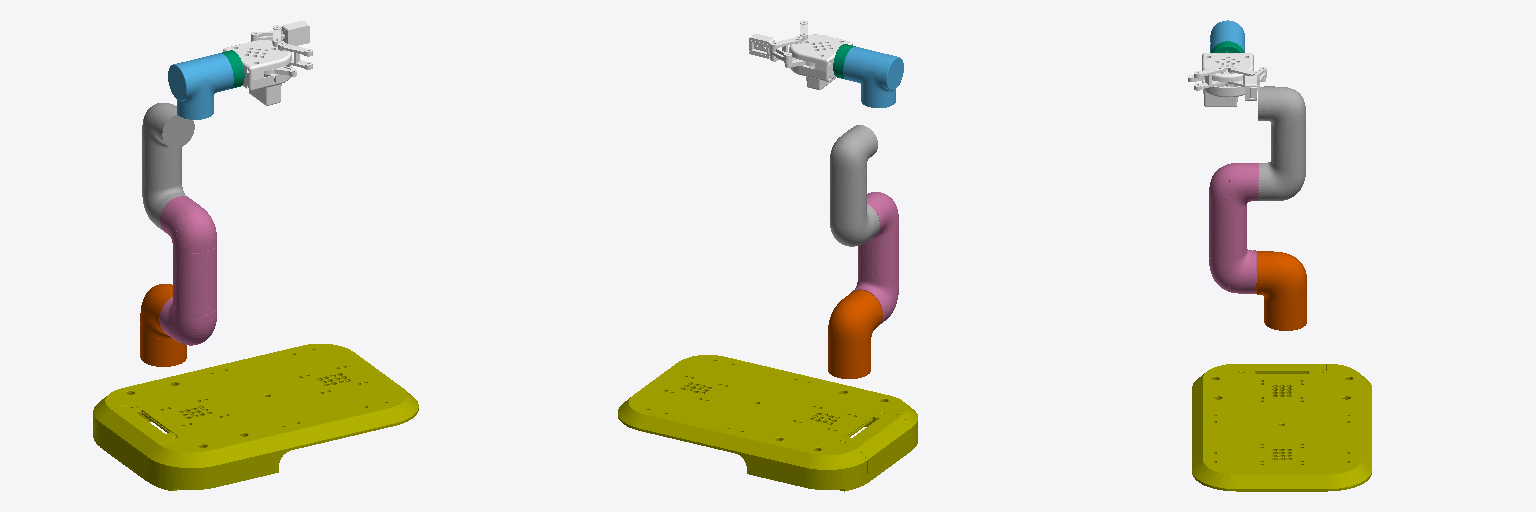
URDF robot description (mycomb1):
<?xml version='1.0' encoding='utf-8'?>
<robot name="mycomb1">
  <link name="base_link">
    <inertial>
      <mass value="0.001" />
      <origin rpy="0 0 0" xyz="0 0 0" />
      <inertia ixx="0.000001" ixy="0" ixz="0" iyy="0.000001" iyz="0" izz="0.000001" />
    </inertial>
  </link>
  <joint name="dummy_joint_copy" type="fixed">
    <origin xyz="0.0 0.0 0.0" rpy="0 0 0" />
    <parent link="base_link" />
    <child link="base_footprint_copy" />
    <axis xyz="0 0 1" />
  </joint>
  <link name="base_footprint_copy">
    <!-- placeholder inertial added by normalize_urdf.py - replace with CAD values -->
    <!-- myAGV placeholder: 1.8 kg like robots/myagv, box inertia for 0.31 x 0.23 x 0.15 m -->
    <inertial>
      <origin xyz="0 0 0" rpy="0 0 0" />
      <mass value="1.8" />
      <inertia ixx="0.0113" ixy="0" ixz="0" iyy="0.0178" iyz="0" izz="0.0224" />
    </inertial>
    <visual>
      <geometry>
        <mesh filename="package://cps_robot_description/robots/myagv/meshes/myagv_base.dae" scale="1 1 1" />
      </geometry>
      <origin xyz="0.0 0.0 0.0" rpy="0.0 0.0 0.0" />
      <material name="black">
        <color rgba="0.7 0.7 0.0 1.0" />
      </material>
    </visual>
    <collision>
      <origin xyz="0.0 0.0 0.0" rpy="0.0 0.0 0.0" />
      <geometry>
        <mesh filename="package://cps_robot_description/robots/myagv/meshes/myagv_base.dae" scale="1 1 1" />
      </geometry>
    </collision>
  </link>
  <joint name="base_joint_copy" type="fixed">
    <origin xyz="0.0 0.0 0.0" rpy="0 0 0" />
    <parent link="base_footprint_copy" />
    <child link="base_up_copy" />
    <axis xyz="0 0 1" />
  </joint>
  <link name="base_up_copy">
    <!-- placeholder inertial added by normalize_urdf.py - replace with CAD values -->
    <!-- myAGV placeholder: 1.8 kg like robots/myagv, box inertia for 0.31 x 0.23 x 0.15 m -->
    <inertial>
      <origin xyz="0 0 0" rpy="0 0 0" />
      <mass value="1.8" />
      <inertia ixx="0.0113" ixy="0" ixz="0" iyy="0.0178" iyz="0" izz="0.0224" />
    </inertial>
    <visual>
      <geometry>
        <mesh filename="package://cps_robot_description/robots/myagv/meshes/myagv_up.dae" scale="1 1 1" />
      </geometry>
      <origin xyz="0.0 0.0 0.0" rpy="0.0 0.0 0.0" />
      <material name="black">
        <color rgba="0.7 0.7 0.0 1.0" />
      </material>
    </visual>
    <collision>
      <origin xyz="0.0 0.0 0.0" rpy="0.0 0.0 0.0" />
      <geometry>
        <mesh filename="package://cps_robot_description/robots/myagv/meshes/myagv_up.dae" scale="1 1 1" />
      </geometry>
    </collision>
  </link>
  <joint name="base_to_g_base_copy" type="fixed">
    <axis xyz="0 0 0" />
    <limit effort="1000.0" lower="-3.14" upper="3.14159" velocity="0" />
    <parent link="base_up_copy" />
    <child link="g_base_copy" />
    <origin xyz="-0.1 0 0.13" rpy="0 0 0" />
  </joint>
  <link name="g_base_copy">
    <!-- placeholder inertial added by normalize_urdf.py - replace with CAD values -->
    <inertial>
      <origin xyz="0 0 0" rpy="0 0 0" />
      <mass value="0.1" />
      <inertia ixx="3.600e-05" ixy="0" ixz="0" iyy="3.600e-05" iyz="0" izz="3.600e-05" />
    </inertial>
    <visual>
      <geometry>
        <mesh filename="package://cps_robot_description/robots/mycobot_280_pi/meshes/G_base.dae" />
      </geometry>
      <origin xyz="0.0 0 -0.03" rpy="0 0 1.5708" />
    </visual>
    <collision>
      <geometry>
        <mesh filename="package://cps_robot_description/robots/mycobot_280_pi/meshes/G_base.dae" />
      </geometry>
      <origin xyz="0.0 0 -0.03" rpy="0 0 1.5708" />
    </collision>
  </link>
  <link name="joint1_copy">
    <!-- placeholder inertial added by normalize_urdf.py - replace with CAD values -->
    <inertial>
      <origin xyz="0 0 0" rpy="0 0 0" />
      <mass value="0.1" />
      <inertia ixx="3.600e-05" ixy="0" ixz="0" iyy="3.600e-05" iyz="0" izz="3.600e-05" />
    </inertial>
    <visual>
      <geometry>
        <!--- 0.0 0 -0.04  1.5708 3.14159-->
        <mesh filename="package://cps_robot_description/robots/mycobot_280_pi/meshes/joint1_pi.dae" />
      </geometry>
      <origin xyz="0.0 0 0 " rpy=" 0 0 -1.5708" />
    </visual>
    <collision>
      <geometry>
        <!--- 0.0 0 -0.04  1.5708 3.14159-->
        <mesh filename="package://cps_robot_description/robots/mycobot_280_pi/meshes/joint1_pi.dae" />
      </geometry>
      <origin xyz="0.0 0 0 " rpy=" 0 0 -1.5708" />
    </collision>
  </link>
  <link name="joint2_copy">
    <!-- placeholder inertial added by normalize_urdf.py - replace with CAD values -->
    <inertial>
      <origin xyz="0 0 0" rpy="0 0 0" />
      <mass value="0.1" />
      <inertia ixx="3.600e-05" ixy="0" ixz="0" iyy="3.600e-05" iyz="0" izz="3.600e-05" />
    </inertial>
    <visual>
      <geometry>
        <mesh filename="package://cps_robot_description/robots/mycobot_280_pi/meshes/joint2.dae" />
      </geometry>
      <origin xyz="0.0 0 -0.06096 " rpy=" 0 0 -1.5708" />
    </visual>
    <collision>
      <geometry>
        <mesh filename="package://cps_robot_description/robots/mycobot_280_pi/meshes/joint2.dae" />
      </geometry>
      <origin xyz="0.0 0 -0.06096 " rpy=" 0 0 -1.5708" />
    </collision>
  </link>
  <link name="joint3_copy">
    <!-- placeholder inertial added by normalize_urdf.py - replace with CAD values -->
    <inertial>
      <origin xyz="0 0 0" rpy="0 0 0" />
      <mass value="0.1" />
      <inertia ixx="3.600e-05" ixy="0" ixz="0" iyy="3.600e-05" iyz="0" izz="3.600e-05" />
    </inertial>
    <visual>
      <geometry>
        <mesh filename="package://cps_robot_description/robots/mycobot_280_pi/meshes/joint3.dae" />
      </geometry>
      <origin xyz="0.0 0 0.03256 " rpy=" 0 -1.5708 0" />
    </visual>
    <collision>
      <geometry>
        <mesh filename="package://cps_robot_description/robots/mycobot_280_pi/meshes/joint3.dae" />
      </geometry>
      <origin xyz="0.0 0 0.03256 " rpy=" 0 -1.5708 0" />
    </collision>
  </link>
  <link name="joint4_copy">
    <!-- placeholder inertial added by normalize_urdf.py - replace with CAD values -->
    <inertial>
      <origin xyz="0 0 0" rpy="0 0 0" />
      <mass value="0.1" />
      <inertia ixx="3.600e-05" ixy="0" ixz="0" iyy="3.600e-05" iyz="0" izz="3.600e-05" />
    </inertial>
    <visual>
      <geometry>
        <!--- 0.0 0 -0.04 -->
        <mesh filename="package://cps_robot_description/robots/mycobot_280_pi/meshes/joint4.dae" />
      </geometry>
      <origin xyz="0.0 0 0.03056 " rpy=" 0 -1.5708 0" />
    </visual>
    <collision>
      <geometry>
        <!--- 0.0 0 -0.04 -->
        <mesh filename="package://cps_robot_description/robots/mycobot_280_pi/meshes/joint4.dae" />
      </geometry>
      <origin xyz="0.0 0 0.03056 " rpy=" 0 -1.5708 0" />
    </collision>
  </link>
  <link name="joint5_copy">
    <!-- placeholder inertial added by normalize_urdf.py - replace with CAD values -->
    <inertial>
      <origin xyz="0 0 0" rpy="0 0 0" />
      <mass value="0.1" />
      <inertia ixx="3.600e-05" ixy="0" ixz="0" iyy="3.600e-05" iyz="0" izz="3.600e-05" />
    </inertial>
    <visual>
      <geometry>
        <!--- 0.0 0 -0.04 -->
        <mesh filename="package://cps_robot_description/robots/mycobot_280_pi/meshes/joint5.dae" />
      </geometry>
      <origin xyz="0.0 0 -0.03356 " rpy=" -1.5708 0 0" />
    </visual>
    <collision>
      <geometry>
        <!--- 0.0 0 -0.04 -->
        <mesh filename="package://cps_robot_description/robots/mycobot_280_pi/meshes/joint5.dae" />
      </geometry>
      <origin xyz="0.0 0 -0.03356 " rpy=" -1.5708 0 0" />
    </collision>
  </link>
  <link name="joint6_copy">
    <!-- placeholder inertial added by normalize_urdf.py - replace with CAD values -->
    <inertial>
      <origin xyz="0 0 0" rpy="0 0 0" />
      <mass value="0.1" />
      <inertia ixx="3.600e-05" ixy="0" ixz="0" iyy="3.600e-05" iyz="0" izz="3.600e-05" />
    </inertial>
    <visual>
      <geometry>
        <!--- 0.0 0 -0.04 -->
        <mesh filename="package://cps_robot_description/robots/mycobot_280_pi/meshes/joint6.dae" />
      </geometry>
      <origin xyz="0 0.00 -0.038 " rpy=" 0 0 0" />
    </visual>
    <collision>
      <geometry>
        <!--- 0.0 0 -0.04 -->
        <mesh filename="package://cps_robot_description/robots/mycobot_280_pi/meshes/joint6.dae" />
      </geometry>
      <origin xyz="0 0.00 -0.038 " rpy=" 0 0 0" />
    </collision>
  </link>
  <link name="joint6_flange_copy">
    <!-- placeholder inertial added by normalize_urdf.py - replace with CAD values -->
    <inertial>
      <origin xyz="0 0 0" rpy="0 0 0" />
      <mass value="0.1" />
      <inertia ixx="3.600e-05" ixy="0" ixz="0" iyy="3.600e-05" iyz="0" izz="3.600e-05" />
    </inertial>
    <visual>
      <geometry>
        <!--- 0.0 0 -0.04 -->
        <mesh filename="package://cps_robot_description/robots/mycobot_280_pi/meshes/joint7.dae" />
      </geometry>
      <origin xyz="0.0 0 -0.012 " rpy=" 0 0 0" />
    </visual>
    <collision>
      <geometry>
        <!--- 0.0 0 -0.04 -->
        <mesh filename="package://cps_robot_description/robots/mycobot_280_pi/meshes/joint7.dae" />
      </geometry>
      <origin xyz="0.0 0 -0.012 " rpy=" 0 0 0" />
    </collision>
  </link>
  <link name="gripper_base_copy">
    <!-- placeholder inertial added by normalize_urdf.py - replace with CAD values -->
    <inertial>
      <origin xyz="0 0 0" rpy="0 0 0" />
      <mass value="0.1" />
      <inertia ixx="3.600e-05" ixy="0" ixz="0" iyy="3.600e-05" iyz="0" izz="3.600e-05" />
    </inertial>
    <visual>
      <geometry>
        <mesh filename="package://cps_robot_description/robots/mycobot_280_pi/meshes/gripper_base.dae" />
      </geometry>
      <origin xyz="0.0 0.0077 -0.012" rpy=" 0 0 0" />
    </visual>
    <collision>
      <geometry>
        <mesh filename="package://cps_robot_description/robots/mycobot_280_pi/meshes/gripper_base.dae" />
      </geometry>
      <origin xyz="0.0 0.0077 -0.012 " rpy=" 0 0 0" />
    </collision>
  </link>
  <link name="gripper_left1_copy">
    <!-- placeholder inertial added by normalize_urdf.py - replace with CAD values -->
    <inertial>
      <origin xyz="0 0 0" rpy="0 0 0" />
      <mass value="0.1" />
      <inertia ixx="3.600e-05" ixy="0" ixz="0" iyy="3.600e-05" iyz="0" izz="3.600e-05" />
    </inertial>
    <visual>
      <geometry>
        <!--- 0.0 0 -0.04 -->
        <mesh filename="package://cps_robot_description/robots/mycobot_280_pi/meshes/gripper_left1.dae" />
      </geometry>
      <origin xyz="0.039 -0.0133 -0.012 " rpy=" 0 0 0" />
      <!-- <origin xyz = "0.0 0 -0.012 " rpy = " 0 0 0"/> -->
    </visual>
    <!-- collision origin aligned with visual (was copy-pasted from the mirrored link) -->
    <collision>
      <geometry>
        <mesh filename="package://cps_robot_description/robots/mycobot_280_pi/meshes/gripper_left1.dae" />
      </geometry>
      <origin xyz="0.039 -0.0133 -0.012 " rpy=" 0 0 0" />
    </collision>
  </link>
  <link name="gripper_left2_copy">
    <!-- placeholder inertial added by normalize_urdf.py - replace with CAD values -->
    <inertial>
      <origin xyz="0 0 0" rpy="0 0 0" />
      <mass value="0.1" />
      <inertia ixx="3.600e-05" ixy="0" ixz="0" iyy="3.600e-05" iyz="0" izz="3.600e-05" />
    </inertial>
    <visual>
      <geometry>
        <mesh filename="package://cps_robot_description/robots/mycobot_280_pi/meshes/gripper_left2.dae" />
      </geometry>
      <origin xyz="0.005 -0.0195 -0.012 " rpy=" 0 0 0" />
    </visual>
    <!-- collision origin aligned with visual (was copy-pasted from the mirrored link) -->
    <collision>
      <geometry>
        <mesh filename="package://cps_robot_description/robots/mycobot_280_pi/meshes/gripper_left2.dae" />
      </geometry>
      <origin xyz="0.005 -0.0195 -0.012 " rpy=" 0 0 0" />
    </collision>
  </link>
  <link name="gripper_left3_copy">
    <!-- placeholder inertial added by normalize_urdf.py - replace with CAD values -->
    <inertial>
      <origin xyz="0 0 0" rpy="0 0 0" />
      <mass value="0.1" />
      <inertia ixx="3.600e-05" ixy="0" ixz="0" iyy="3.600e-05" iyz="0" izz="3.600e-05" />
    </inertial>
    <visual>
      <geometry>
        <mesh filename="package://cps_robot_description/robots/mycobot_280_pi/meshes/gripper_left3.dae" />
      </geometry>
      <origin xyz="0.012 0.0025 -0.012 " rpy=" 0 0 0" />
      <!-- <origin xyz = "0.0 0 0 " rpy = " 0 0 0"/> -->
    </visual>
    <collision>
      <geometry>
        <mesh filename="package://cps_robot_description/robots/mycobot_280_pi/meshes/gripper_left3.dae" />
      </geometry>
      <origin xyz="0.012 0.0025 -0.012" rpy=" 0 0 0" />
    </collision>
  </link>
  <link name="gripper_right1_copy">
    <!-- placeholder inertial added by normalize_urdf.py - replace with CAD values -->
    <inertial>
      <origin xyz="0 0 0" rpy="0 0 0" />
      <mass value="0.1" />
      <inertia ixx="3.600e-05" ixy="0" ixz="0" iyy="3.600e-05" iyz="0" izz="3.600e-05" />
    </inertial>
    <visual>
      <geometry>
        <mesh filename="package://cps_robot_description/robots/mycobot_280_pi/meshes/gripper_right1.dae" />
      </geometry>
      <origin xyz="-0.039 -0.0133 -0.012 " rpy=" 0 0 0" />
    </visual>
    <collision>
      <geometry>
        <mesh filename="package://cps_robot_description/robots/mycobot_280_pi/meshes/gripper_right1.dae" />
      </geometry>
      <origin xyz="-0.039 -0.0133 -0.012 " rpy=" 0 0 0" />
    </collision>
  </link>
  <link name="gripper_right2_copy">
    <!-- placeholder inertial added by normalize_urdf.py - replace with CAD values -->
    <inertial>
      <origin xyz="0 0 0" rpy="0 0 0" />
      <mass value="0.1" />
      <inertia ixx="3.600e-05" ixy="0" ixz="0" iyy="3.600e-05" iyz="0" izz="3.600e-05" />
    </inertial>
    <visual>
      <geometry>
        <mesh filename="package://cps_robot_description/robots/mycobot_280_pi/meshes/gripper_right2.dae" />
      </geometry>
      <origin xyz="-0.005 -0.0195 -0.012 " rpy=" 0 0 0" />
    </visual>
    <collision>
      <geometry>
        <mesh filename="package://cps_robot_description/robots/mycobot_280_pi/meshes/gripper_right2.dae" />
      </geometry>
      <origin xyz="-0.005 -0.0195 -0.012 " rpy=" 0 0 0" />
    </collision>
  </link>
  <link name="gripper_right3_copy">
    <!-- placeholder inertial added by normalize_urdf.py - replace with CAD values -->
    <inertial>
      <origin xyz="0 0 0" rpy="0 0 0" />
      <mass value="0.1" />
      <inertia ixx="3.600e-05" ixy="0" ixz="0" iyy="3.600e-05" iyz="0" izz="3.600e-05" />
    </inertial>
    <visual>
      <geometry>
        <mesh filename="package://cps_robot_description/robots/mycobot_280_pi/meshes/gripper_right3.dae" />
      </geometry>
      <origin xyz="-0.012 0.0025 -0.012 " rpy=" 0 0 0" />
    </visual>
    <collision>
      <geometry>
        <mesh filename="package://cps_robot_description/robots/mycobot_280_pi/meshes/gripper_right3.dae" />
      </geometry>
      <origin xyz="-0.012 0.0025 -0.012" rpy=" 0 0 0" />
    </collision>
  </link>
  <joint name="g_base_to_joint1_copy" type="fixed">
    <axis xyz="0 0 0" />
    <limit effort="1000.0" lower="-6.2831853" upper="6.2831853" velocity="0" />
    <parent link="g_base_copy" />
    <child link="joint1_copy" />
    <origin xyz="0 0 0" rpy="0 0 0" />
  </joint>
  <joint name="joint2_to_joint1_copy" type="revolute">
    <axis xyz="0 0 1" />
    <limit effort="1000.0" lower="-6.2831853" upper="6.2831853" velocity="2" />
    <parent link="joint1_copy" />
    <child link="joint2_copy" />
    <origin xyz="0 0 0.13156" rpy="0 0 0" />
  </joint>
  <joint name="joint3_to_joint2_copy" type="revolute">
    <axis xyz="0 0 1" />
    <limit effort="1000.0" lower="-6.2831853" upper="6.2831853" velocity="2" />
    <parent link="joint2_copy" />
    <child link="joint3_copy" />
    <origin xyz="0 0  0" rpy="0 1.5708 -1.5708" />
  </joint>
  <joint name="joint4_to_joint3_copy" type="revolute">
    <axis xyz=" 0 0 1" />
    <limit effort="1000.0" lower="-6.2831853" upper="6.2831853" velocity="2" />
    <parent link="joint3_copy" />
    <child link="joint4_copy" />
    <origin xyz="  -0.1104 0 0   " rpy="0 0 0" />
  </joint>
  <joint name="joint5_to_joint4_copy" type="revolute">
    <axis xyz=" 0 0 1" />
    <limit effort="1000.0" lower="-6.2831853" upper="6.2831853" velocity="2" />
    <parent link="joint4_copy" />
    <child link="joint5_copy" />
    <origin xyz="-0.096 0 0.06462" rpy="0 0 -1.5708" />
  </joint>
  <joint name="joint6_to_joint5_copy" type="revolute">
    <axis xyz="0 0 1" />
    <limit effort="1000.0" lower="-6.2831853" upper="6.2831853" velocity="2" />
    <parent link="joint5_copy" />
    <child link="joint6_copy" />
    <origin xyz="0 -0.07318 0" rpy="1.5708 -1.5708 0" />
  </joint>
  <joint name="joint6output_to_joint6_copy" type="revolute">
    <axis xyz="0 0 1" />
    <limit effort="1000.0" lower="-6.2831853" upper="6.2831853" velocity="2" />
    <parent link="joint6_copy" />
    <child link="joint6_flange_copy" />
    <origin xyz="0 0.0456 0" rpy="-1.5708 0 0" />
  </joint>
  <joint name="joint6output_to_gripper_base_copy" type="fixed">
    <!-- <axis xyz="0 0 1"/>
    <limit effort = "1000.0" lower = "-3.14" upper = "3.14159" velocity = "0"/> -->
    <parent link="joint6_flange_copy" />
    <child link="gripper_base_copy" />
    <origin xyz="0 0 0.0268" rpy="1.5708 0 3.14159" />
  </joint>
  <joint name="gripper_controller" type="revolute">
    <axis xyz="0 0 1" />
    <limit effort="1000.0" lower="-0.7" upper="0.15" velocity="2" />
    <parent link="gripper_base_copy" />
    <child link="gripper_left3_copy" />
    <origin xyz="-0.012 0.005 0" rpy="0 0 0" />
  </joint>
  <joint name="gripper_base_to_gripper_left2_copy" type="revolute">
    <axis xyz="0 0 1" />
    <limit effort="1000.0" lower="-0.8" upper="0.5" velocity="2" />
    <parent link="gripper_base_copy" />
    <child link="gripper_left2_copy" />
    <origin xyz="-0.005 0.027 0" rpy="0 0 0" />
    <mimic joint="gripper_controller" multiplier="1.0" offset="0" />
  </joint>
  <joint name="gripper_left3_to_gripper_left1_copy" type="revolute">
    <axis xyz="0 0 1" />
    <limit effort="1000.0" lower="-0.5" upper="0.5" velocity="2" />
    <parent link="gripper_left3_copy" />
    <child link="gripper_left1_copy" />
    <origin xyz="-0.027 0.016 0" rpy="0 0 0" />
    <mimic joint="gripper_controller" multiplier="-1.0" offset="0" />
  </joint>
  <joint name="gripper_base_to_gripper_right3_copy" type="revolute">
    <axis xyz="0 0 1" />
    <limit effort="1000.0" lower="-0.15" upper="0.7" velocity="2" />
    <parent link="gripper_base_copy" />
    <child link="gripper_right3_copy" />
    <origin xyz="0.012 0.005 0" rpy="0 0 0" />
    <mimic joint="gripper_controller" multiplier="-1.0" offset="0" />
  </joint>
  <joint name="gripper_base_to_gripper_right2_copy" type="revolute">
    <axis xyz="0 0 1" />
    <limit effort="1000.0" lower="-0.5" upper="0.8" velocity="2" />
    <parent link="gripper_base_copy" />
    <child link="gripper_right2_copy" />
    <origin xyz="0.005 0.027 0" rpy="0 0 0" />
    <mimic joint="gripper_controller" multiplier="-1.0" offset="0" />
  </joint>
  <joint name="gripper_right3_to_gripper_right1_copy" type="revolute">
    <axis xyz="0 0 1" />
    <limit effort="1000.0" lower="-0.5" upper="0.5" velocity="2" />
    <parent link="gripper_right3_copy" />
    <child link="gripper_right1_copy" />
    <origin xyz="0.027 0.016 0" rpy="0 0 0" />
    <mimic joint="gripper_controller" multiplier="1.0" offset="0" />
  </joint>
</robot>

--- Facts derived from the render (not from the file) ---
Views: 3 orthographic renders of the robot side by side, from view 1: azimuth 30°, elevation 25°; view 2: azimuth 150°, elevation 25°; view 3: azimuth 270°, elevation 25°.
Robot: mycomb1 — 18 links, 17 joints (12 revolute, 5 fixed); root link base_link; default pose: every joint at zero.
Visible links, largest first — view 1: base_up_copy, joint3_copy, joint4_copy, joint6_copy, gripper_base_copy, joint2_copy, gripper_right1_copy; view 2: base_up_copy, joint4_copy, joint2_copy, joint3_copy, joint6_copy, gripper_base_copy, gripper_right1_copy; view 3: base_up_copy, joint3_copy, joint4_copy, joint2_copy, gripper_base_copy, joint6_copy.
Boxes of the visible links, left/top/right/bottom form: base_up_copy: left=93, top=344, right=418, bottom=490; joint3_copy: left=159, top=196, right=216, bottom=345; joint4_copy: left=142, top=103, right=194, bottom=229; joint6_copy: left=168, top=53, right=233, bottom=119; gripper_base_copy: left=223, top=40, right=291, bottom=105; joint2_copy: left=140, top=284, right=186, bottom=366; gripper_right1_copy: left=251, top=21, right=309, bottom=45; base_up_copy: left=618, top=355, right=917, bottom=491; joint4_copy: left=830, top=125, right=879, bottom=246; joint2_copy: left=828, top=290, right=882, bottom=378; joint3_copy: left=851, top=192, right=898, bottom=323; joint6_copy: left=843, top=47, right=903, bottom=107; gripper_base_copy: left=789, top=34, right=852, bottom=89; gripper_right1_copy: left=749, top=34, right=791, bottom=63; base_up_copy: left=1192, top=364, right=1371, bottom=491; joint3_copy: left=1209, top=163, right=1258, bottom=293; joint4_copy: left=1258, top=86, right=1305, bottom=200; joint2_copy: left=1256, top=251, right=1306, bottom=330; gripper_base_copy: left=1202, top=53, right=1253, bottom=106; joint6_copy: left=1210, top=20, right=1244, bottom=52.
Bounding box of the posed robot: 0.3114 × 0.2046 × 0.469 m (x, y, z).
Meshes: 17 distinct files referenced, 12 mesh visuals loaded (12 Collada DAE); not drawn: 5 (reference not matched to a file when rendering).
